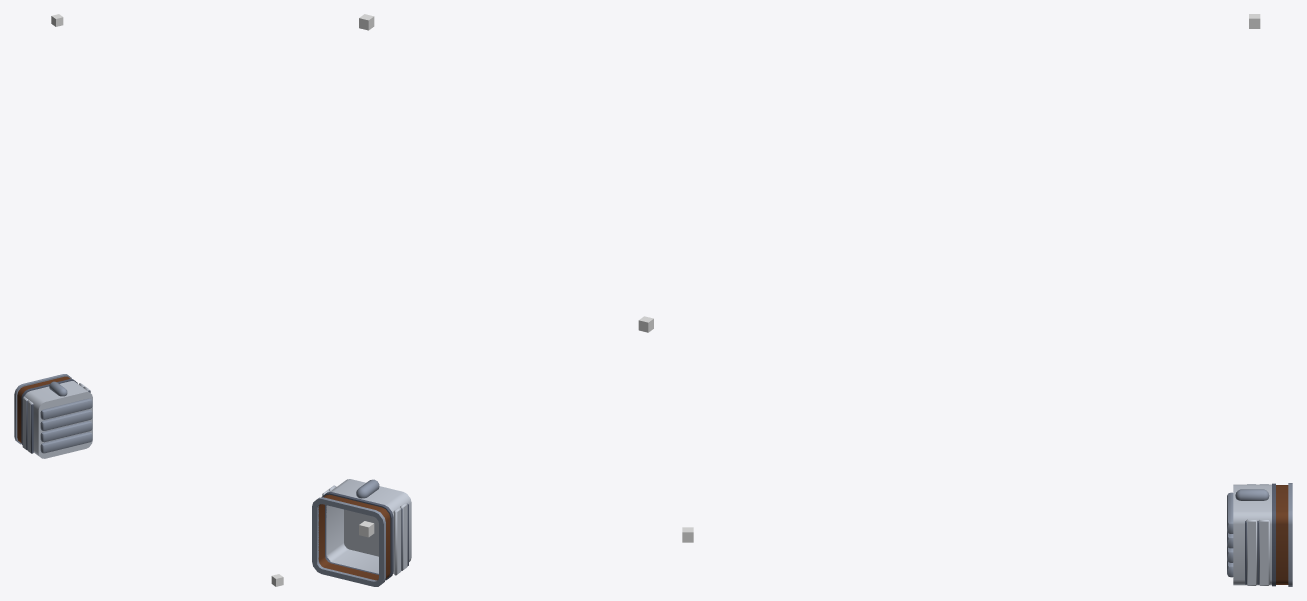
The model's file is Gauntlets.fbx.
3 views of the same model, side by side, from view 1: azimuth 30°, elevation 25°; view 2: azimuth 150°, elevation 25°; view 3: azimuth 270°, elevation 25° (orthographic). The views are drawn at different scales.
Visible parts, largest first — view 1: Body; view 2: Body; view 3: Body.
Boxes of the visible parts, bbox=[...] form: Body: bbox=[14, 374, 92, 458]; Body: bbox=[312, 479, 411, 586]; Body: bbox=[1227, 483, 1292, 586].
Bounding box in the file's own units: 1.55 × 10.84 × 10.77.
1 material, 1 textured.
